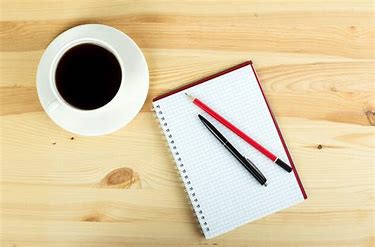pen: (199, 114, 267, 184)
